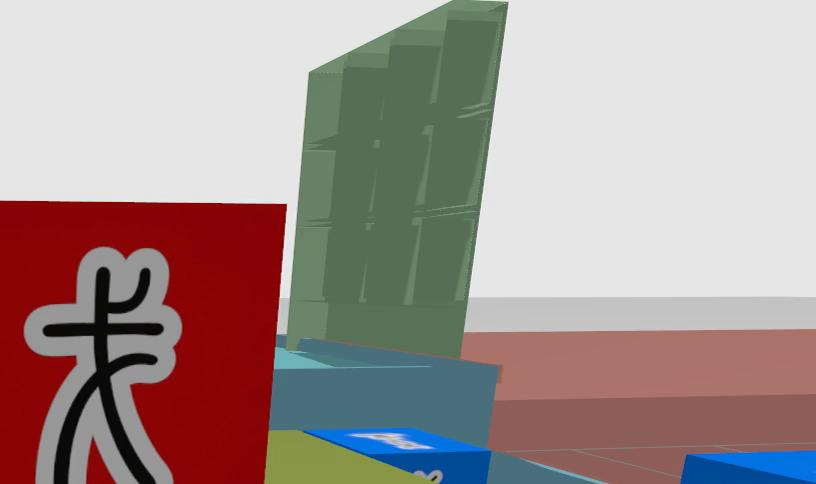KFS_FAKE: (0, 201, 285, 484), (25, 247, 181, 484)
KFS_REAL: (305, 427, 490, 484), (680, 451, 815, 484)
